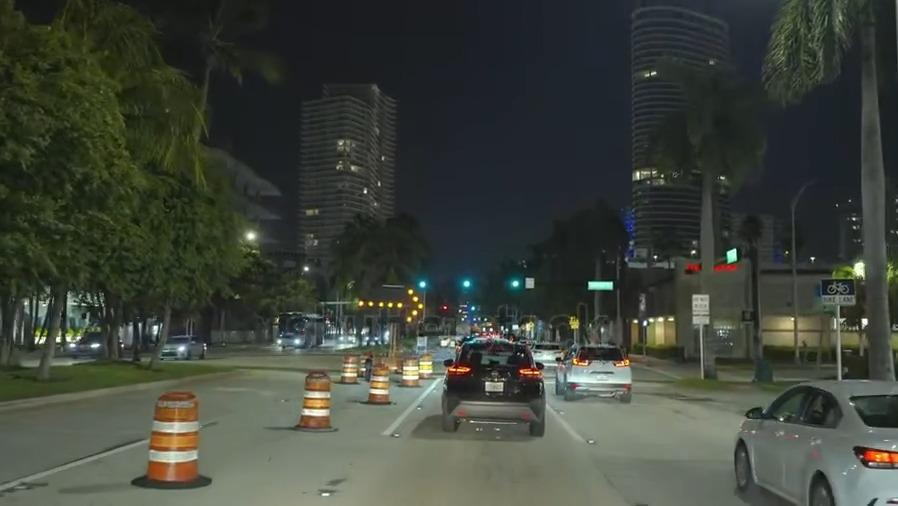arrow traffic sign: (353, 285, 427, 328)
bus: (273, 308, 329, 351)
car: (734, 379, 898, 506), (441, 343, 545, 429), (558, 344, 631, 402), (66, 331, 124, 359), (158, 334, 207, 360), (531, 337, 561, 365)
cone: (145, 391, 199, 478), (301, 370, 334, 430), (369, 362, 389, 403), (399, 355, 419, 383), (415, 351, 434, 378), (341, 354, 356, 383), (360, 351, 369, 374)
pedestrian: (648, 363, 735, 382)
traffic light: (500, 273, 526, 295), (409, 275, 434, 296), (457, 273, 475, 296)
wheel: (729, 436, 755, 491), (804, 467, 836, 506)
